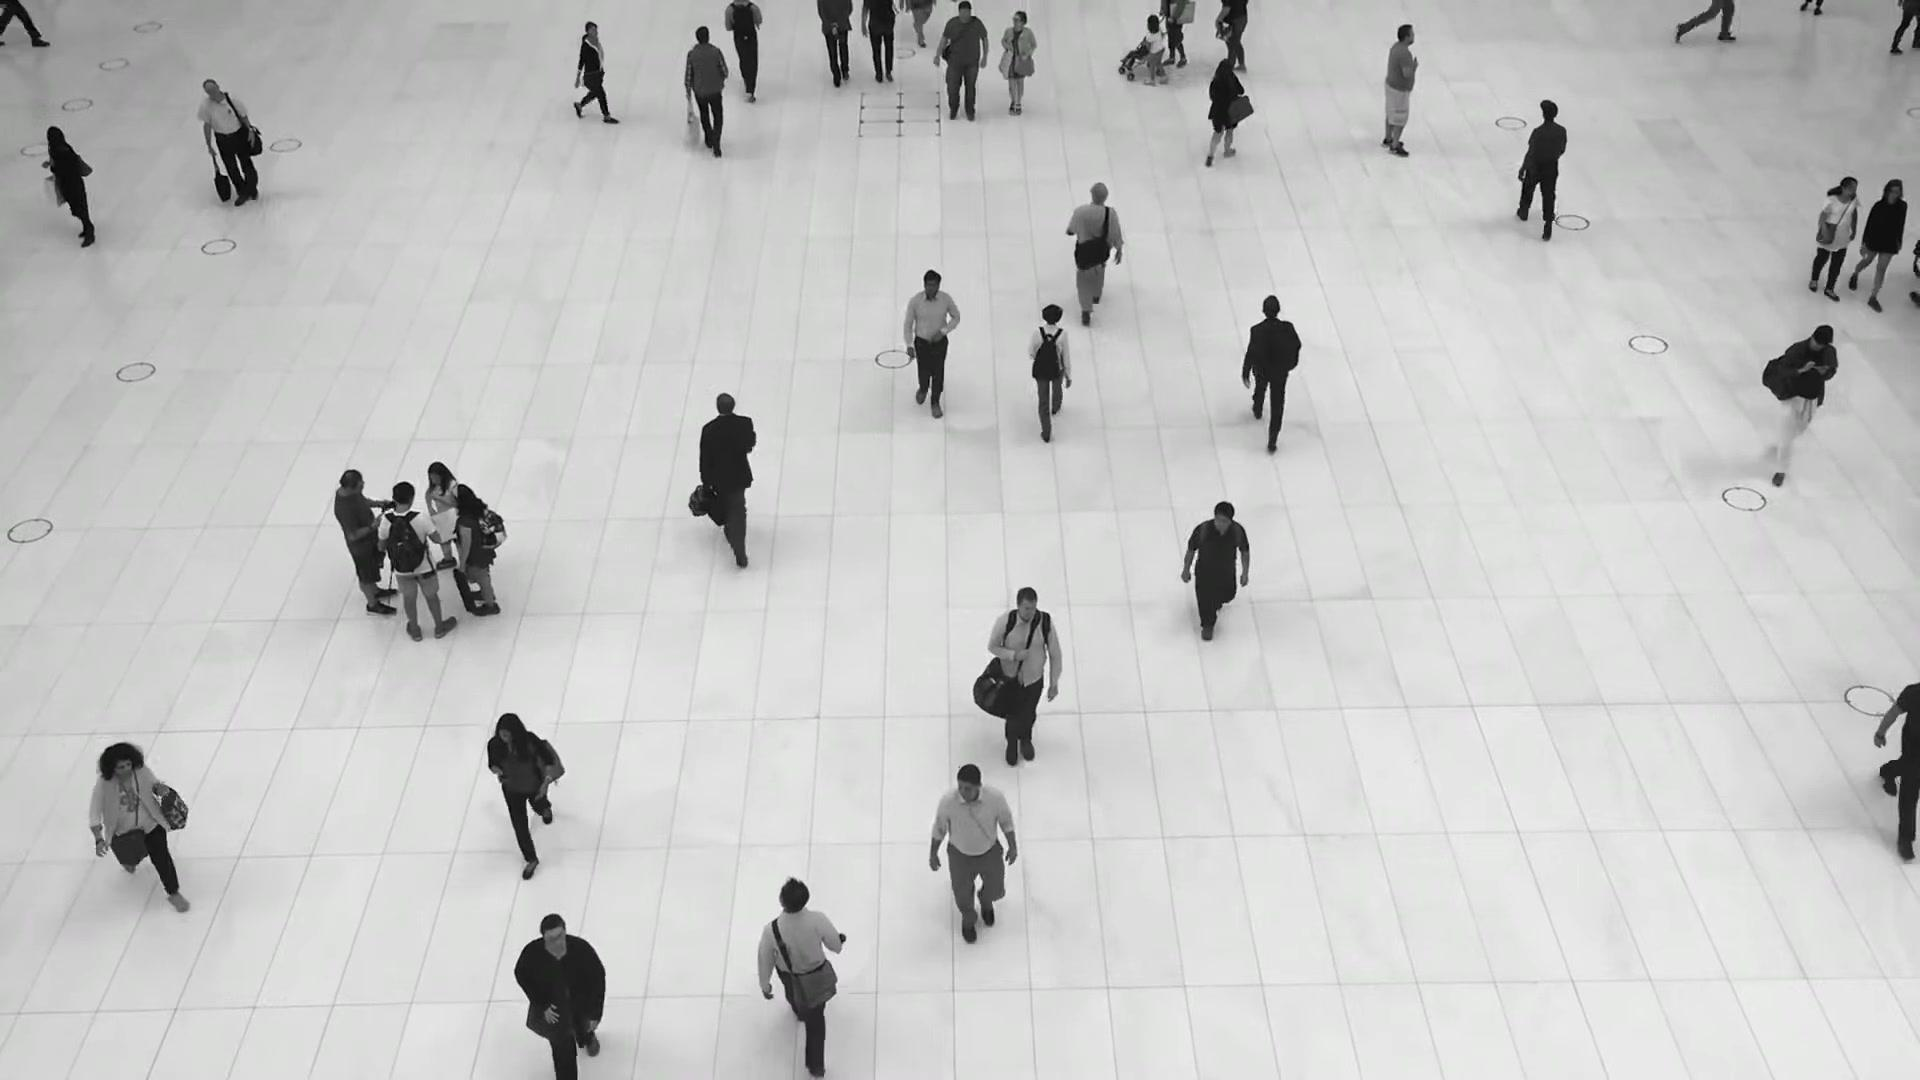person: (929, 765, 1021, 964), (510, 908, 613, 1079), (84, 739, 185, 910), (756, 876, 845, 1057), (985, 590, 1061, 781), (377, 481, 459, 641), (485, 709, 565, 874), (1761, 322, 1839, 483), (697, 392, 761, 570), (1180, 502, 1252, 650), (1238, 291, 1305, 444), (901, 270, 961, 430), (333, 468, 400, 615), (1062, 180, 1124, 321), (198, 80, 258, 212), (1514, 97, 1570, 237), (1850, 176, 1908, 309), (1802, 176, 1860, 299), (449, 483, 501, 616), (934, 1, 989, 123), (42, 125, 96, 248), (1025, 300, 1074, 437), (683, 27, 730, 162), (571, 20, 623, 125), (1381, 23, 1420, 157), (422, 460, 459, 580), (1203, 59, 1244, 168), (723, 0, 768, 98), (998, 11, 1037, 120), (1143, 13, 1167, 86)
